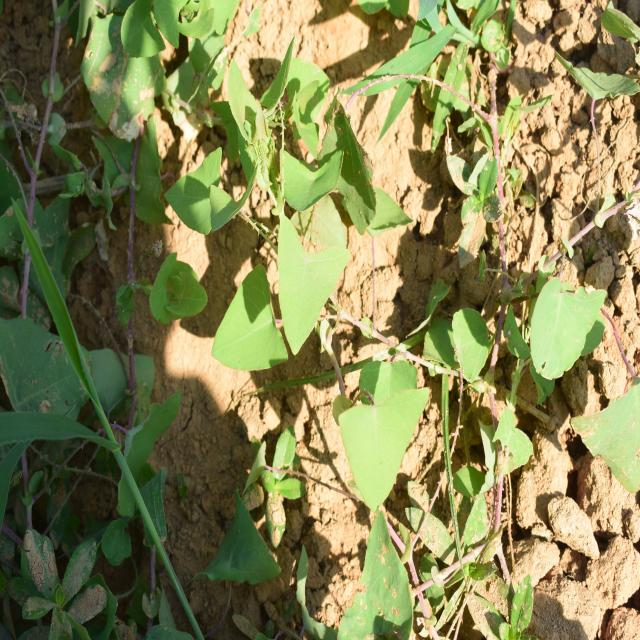Asiatic_Smartweed: (157, 135, 376, 380), (330, 321, 440, 505), (523, 263, 633, 398)
